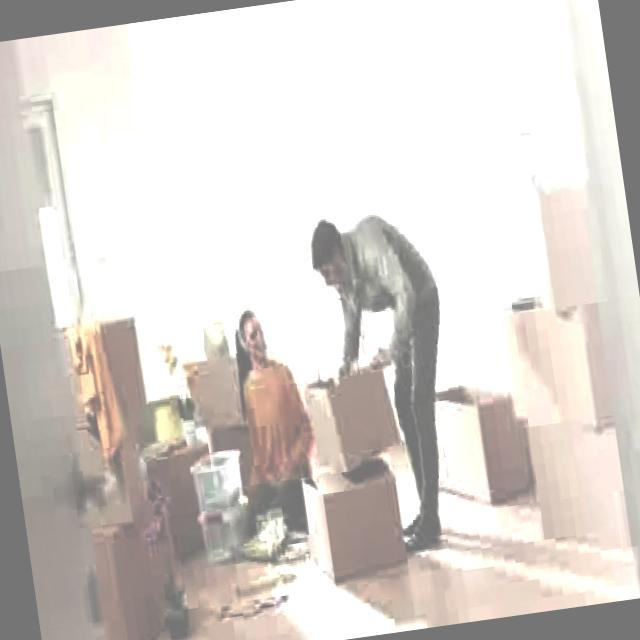Box: (522, 408, 628, 538), (295, 462, 394, 590), (301, 356, 401, 472), (514, 183, 596, 324), (497, 312, 598, 422)
